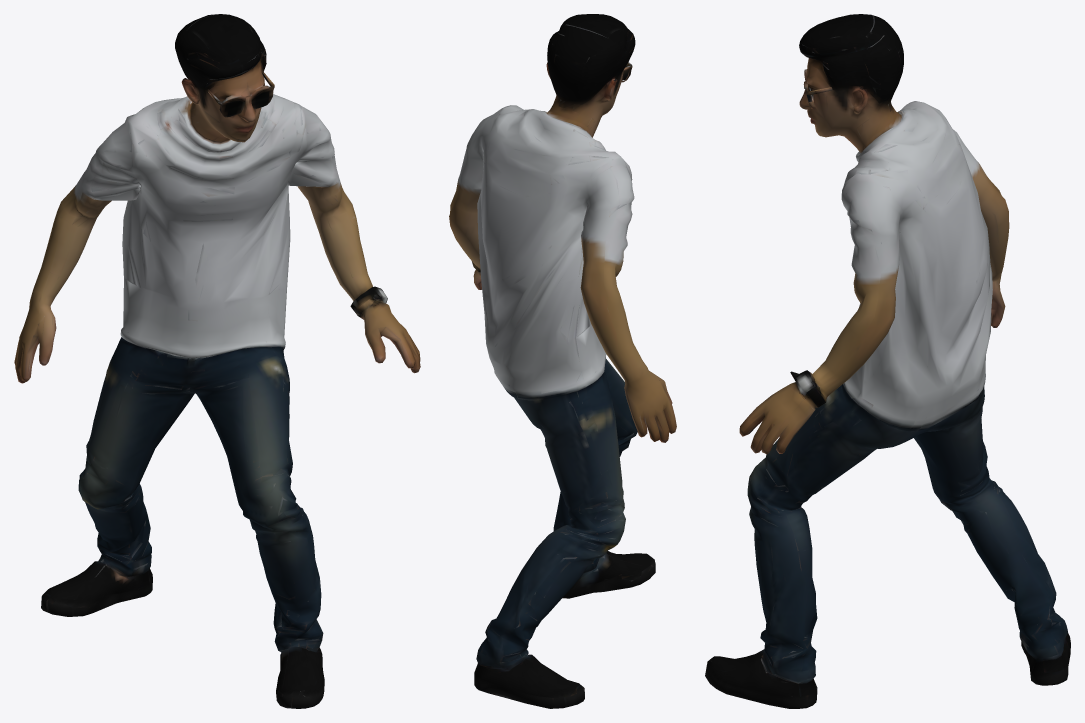
File: provokator_idle.glb
The picture shows the model from 3 angles, left to right: view 1: azimuth 30°, elevation 25°; view 2: azimuth 150°, elevation 25°; view 3: azimuth 270°, elevation 25°; orthographic projection. The views are drawn at different scales.
Parts seen in each view (by area): view 1: tripo_node_f0bba47e; view 2: tripo_node_f0bba47e; view 3: tripo_node_f0bba47e.
Boxes of the visible parts, x1,y1,x2,y2 form: tripo_node_f0bba47e: (14,14,420,708); tripo_node_f0bba47e: (449,14,676,708); tripo_node_f0bba47e: (705,14,1070,708).
Bounding box in the file's own units: 45.52 × 92.58 × 46.72.
1 material, 1 textured.
